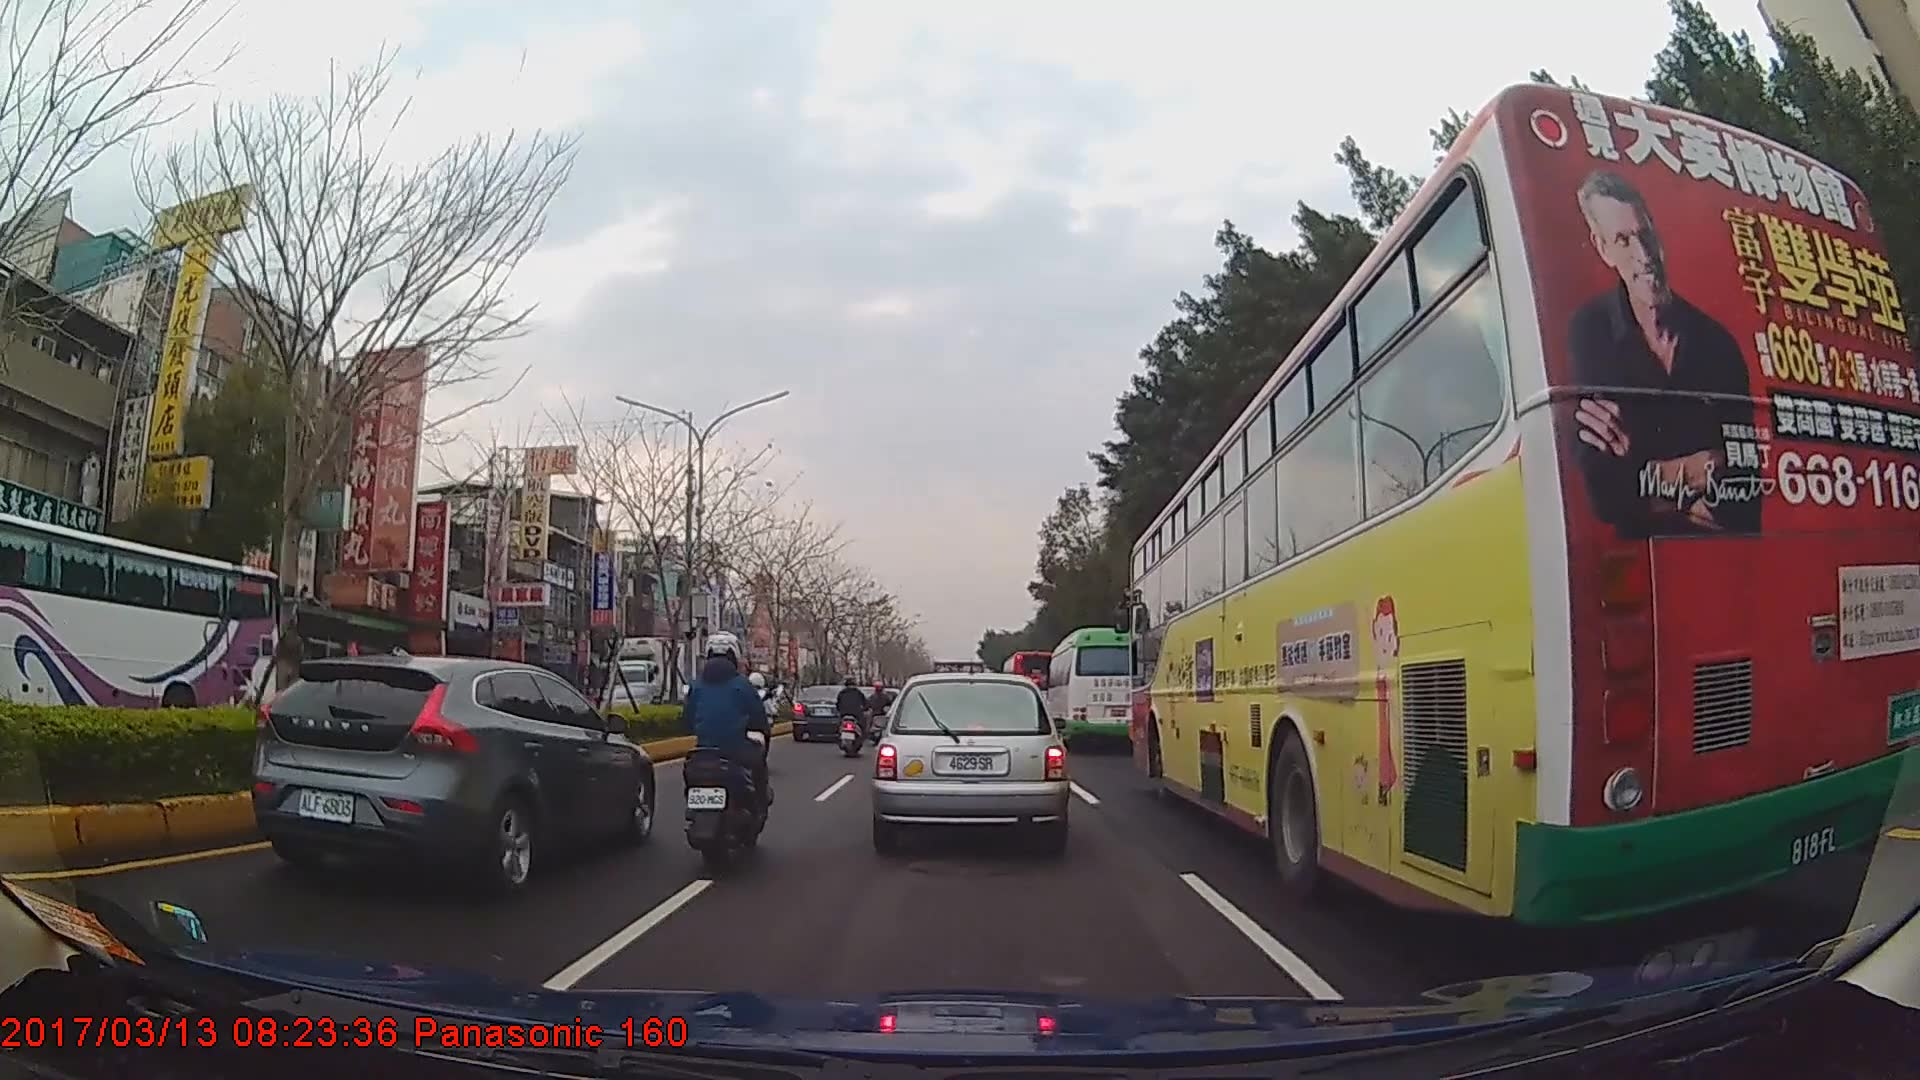rider: (680, 631, 773, 868), (731, 668, 776, 777), (836, 676, 872, 755), (866, 683, 893, 742)
vehicle: (1128, 79, 1920, 930), (251, 653, 654, 895), (0, 511, 280, 759), (874, 670, 1070, 850), (1046, 627, 1161, 752), (592, 633, 701, 739), (792, 684, 869, 744), (999, 647, 1058, 723)
